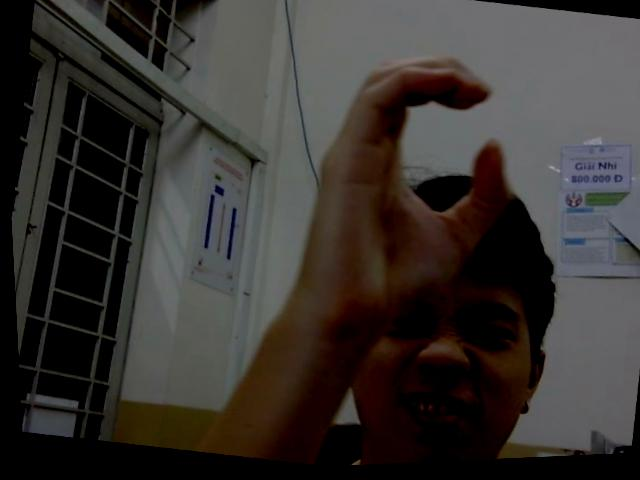C: (281, 33, 538, 348)
